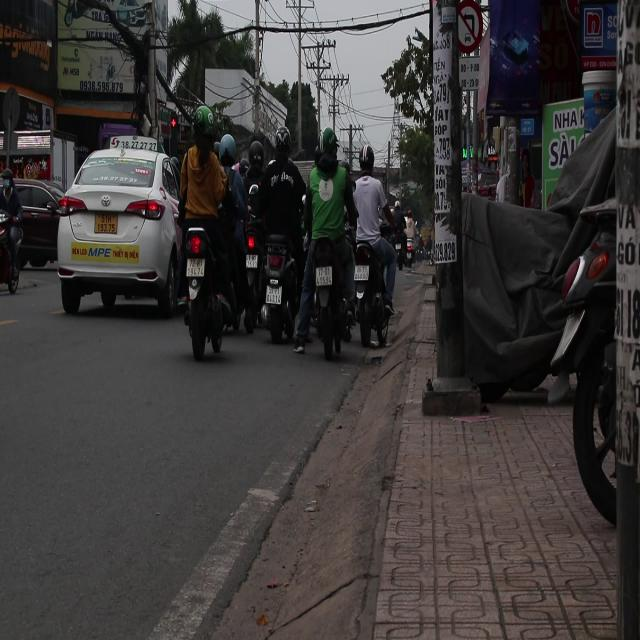car: (55, 144, 186, 316), (12, 181, 64, 267)
motorbike: (546, 174, 632, 542), (179, 212, 239, 361), (252, 222, 302, 348), (309, 244, 354, 360), (353, 238, 395, 348)
